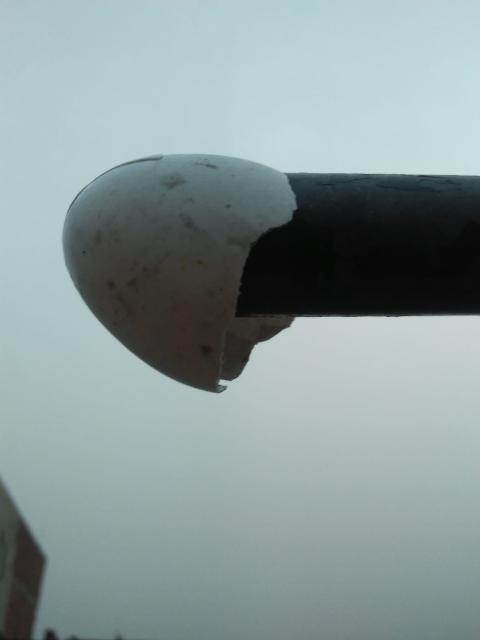Roto: (61, 153, 300, 394)
